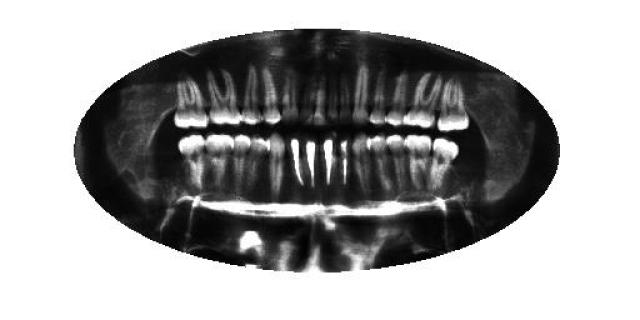Implant: (285, 132, 304, 192), (335, 132, 351, 188), (319, 138, 335, 186), (305, 135, 316, 189)
